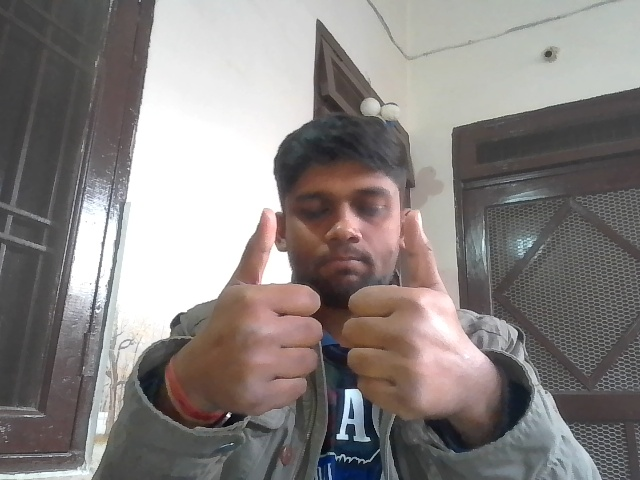Excellent: (179, 207, 466, 426)
